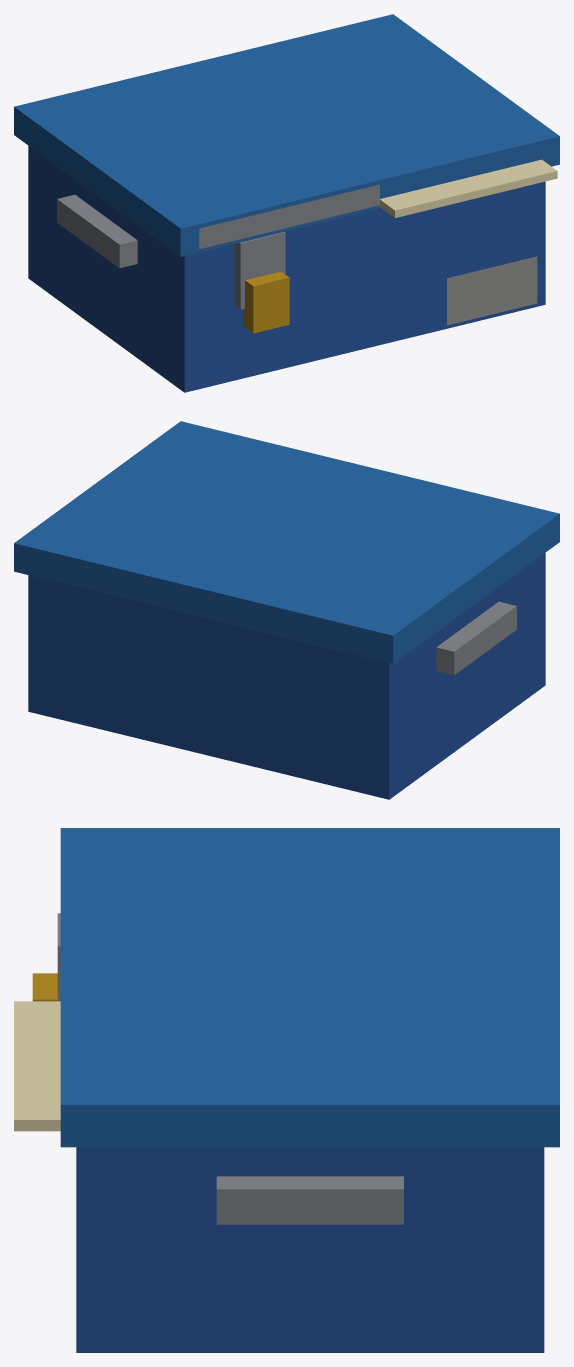
The model's file is prop_papers-box.glb.
3 renders of one model, top to bottom at view 1: azimuth 30°, elevation 25°; view 2: azimuth 150°, elevation 25°; view 3: azimuth 270°, elevation 25°, orthographic. The views are drawn at different scales.
Visible parts, largest first — view 1: body; view 2: body; view 3: body.
Part boxes in pixels (x1,y1,x2,y2): body: [14, 14, 559, 392]; body: [14, 421, 559, 799]; body: [14, 828, 559, 1352].
Bounding box in the file's own units: 0.44 × 0.18 × 0.35.
